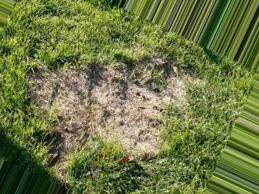patch: (51, 77, 157, 148)
